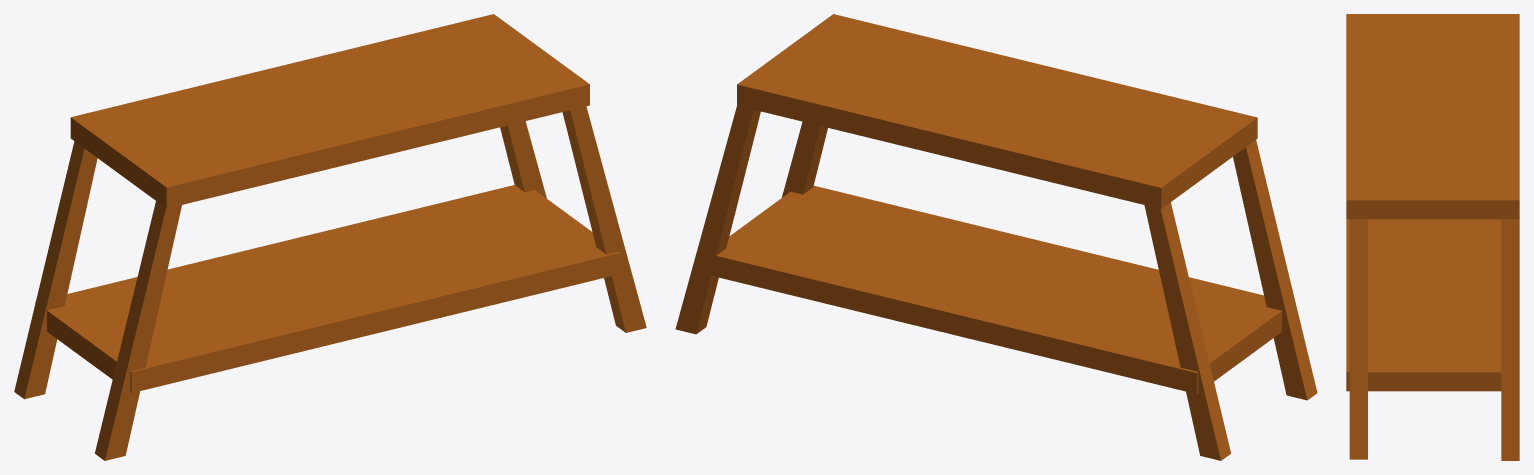
Rendered from makeshift_altar.glb.
3 views of the same model, side by side, from view 1: azimuth 30°, elevation 25°; view 2: azimuth 150°, elevation 25°; view 3: azimuth 270°, elevation 25° (orthographic). The views are drawn at different scales.
Visible parts, largest first — view 1: makeshift_altar; view 2: makeshift_altar; view 3: makeshift_altar.
Part boxes in pixels (left/top/right/bottom): makeshift_altar: left=14, top=14, right=646, bottom=460; makeshift_altar: left=675, top=14, right=1317, bottom=460; makeshift_altar: left=1346, top=14, right=1519, bottom=460.
Size of the model in its own units: 2.86 by 1.3 by 0.8736.
